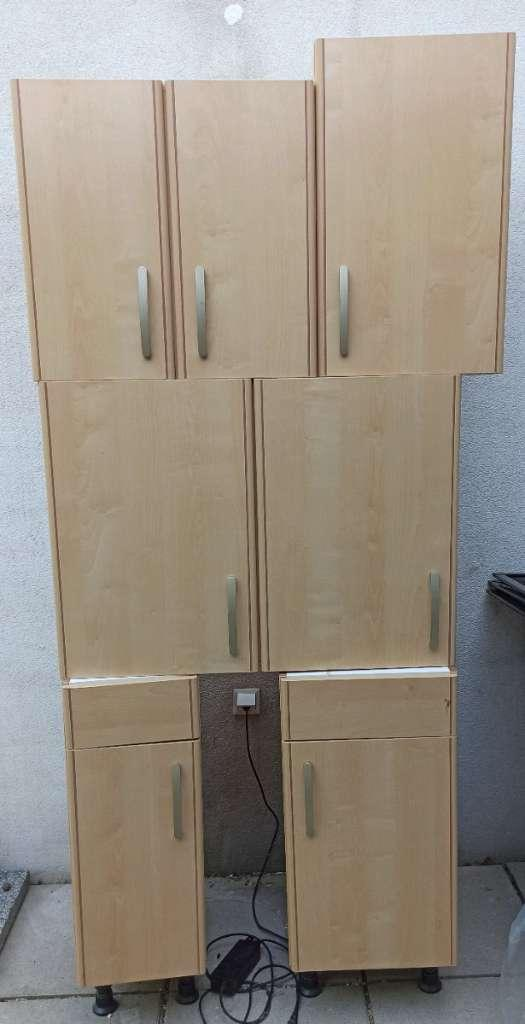cabinet_door: (322, 42, 499, 378), (57, 381, 245, 675), (263, 380, 450, 670), (32, 82, 164, 375), (180, 85, 310, 380), (294, 745, 449, 979), (79, 751, 195, 985), (290, 675, 450, 742), (73, 678, 195, 750)
handle: (132, 258, 156, 371), (192, 263, 212, 368), (336, 261, 354, 366), (224, 569, 240, 661), (426, 569, 442, 658), (170, 760, 186, 847), (302, 758, 318, 843)
